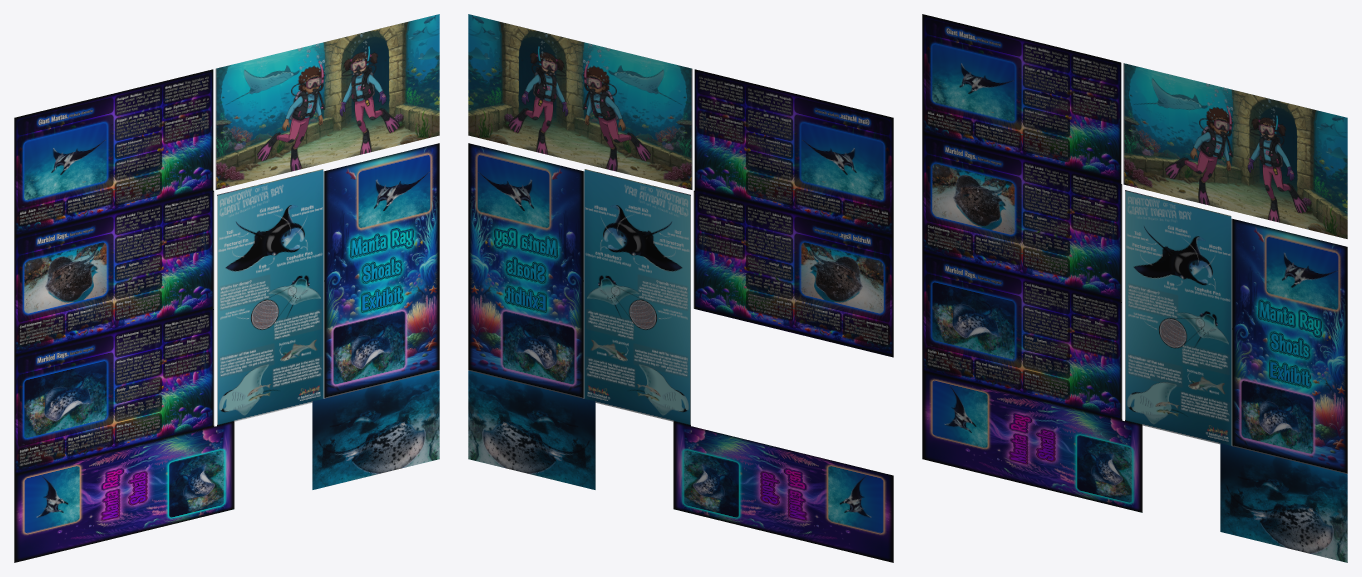
Rendered from Mantay Ray Photos3.fbx.
The picture shows the model from 3 angles, left to right: view 1: azimuth 30°, elevation 25°; view 2: azimuth 150°, elevation 25°; view 3: azimuth 330°, elevation 25°; orthographic projection.
Visible parts, largest first — view 1: Plane.026, Plane.027, Plane.025, Plane.022, Plane.023, Plane.024, Plane.029, Plane.028; view 2: Plane.026, Plane.027, Plane.025, Plane.022, Plane.023, Plane.029, Plane.028; view 3: Plane.026, Plane.027, Plane.025, Plane.022, Plane.023, Plane.024, Plane.029, Plane.028.
Boxes of the visible parts, <box> form: Plane.026: <box>215,14,439,189</box>; Plane.027: <box>323,143,439,399</box>; Plane.025: <box>217,169,323,425</box>; Plane.022: <box>14,69,213,238</box>; Plane.023: <box>14,190,214,357</box>; Plane.024: <box>14,309,214,475</box>; Plane.029: <box>14,422,234,562</box>; Plane.028: <box>312,372,439,489</box>; Plane.026: <box>468,14,692,189</box>; Plane.027: <box>468,143,584,399</box>; Plane.025: <box>584,169,690,425</box>; Plane.022: <box>694,69,893,238</box>; Plane.023: <box>693,190,893,357</box>; Plane.029: <box>673,422,893,562</box>; Plane.028: <box>468,372,595,489</box>; Plane.026: <box>1123,63,1347,238</box>; Plane.027: <box>1231,218,1347,475</box>; Plane.025: <box>1125,190,1231,446</box>; Plane.022: <box>922,14,1121,183</box>; Plane.023: <box>922,135,1122,302</box>; Plane.024: <box>922,254,1122,420</box>; Plane.029: <box>922,372,1142,512</box>; Plane.028: <box>1220,444,1347,562</box>.
Size of the model in its own units: 200 by 200 by 3.26e-05.
